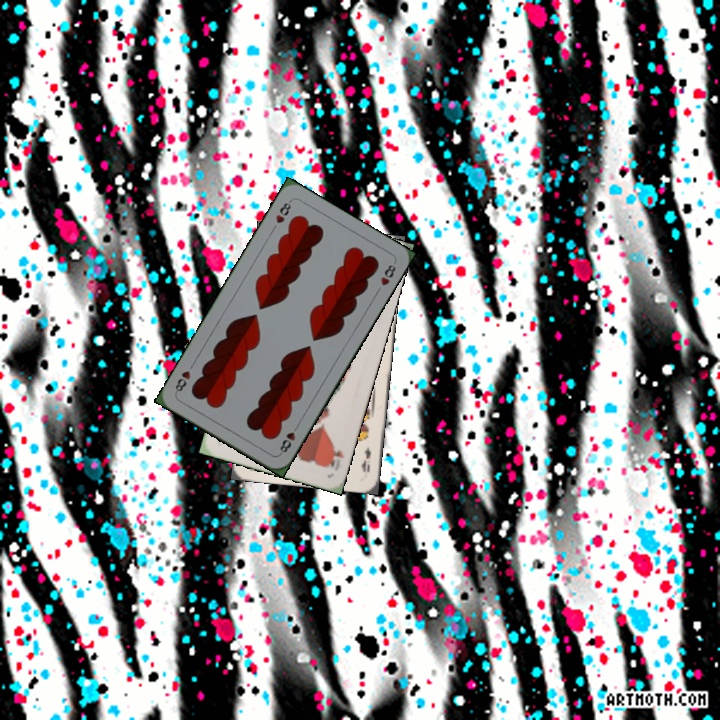E9: (357, 443, 373, 475)
H8: (276, 420, 301, 457), (271, 196, 294, 226)
HO: (324, 442, 347, 473)
